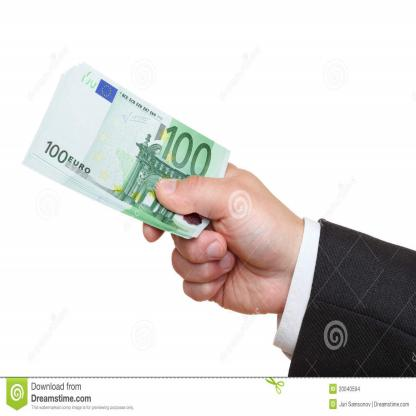billete: (20, 60, 232, 242)
